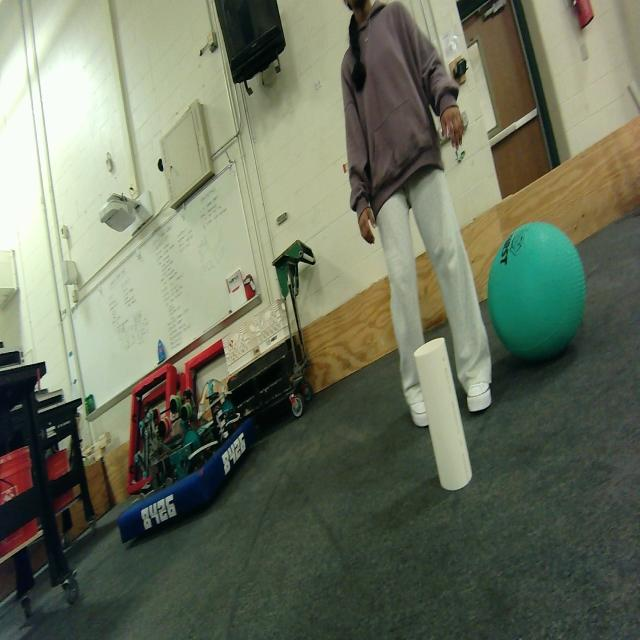algae: (486, 216, 605, 370)
coral: (408, 332, 483, 498)
